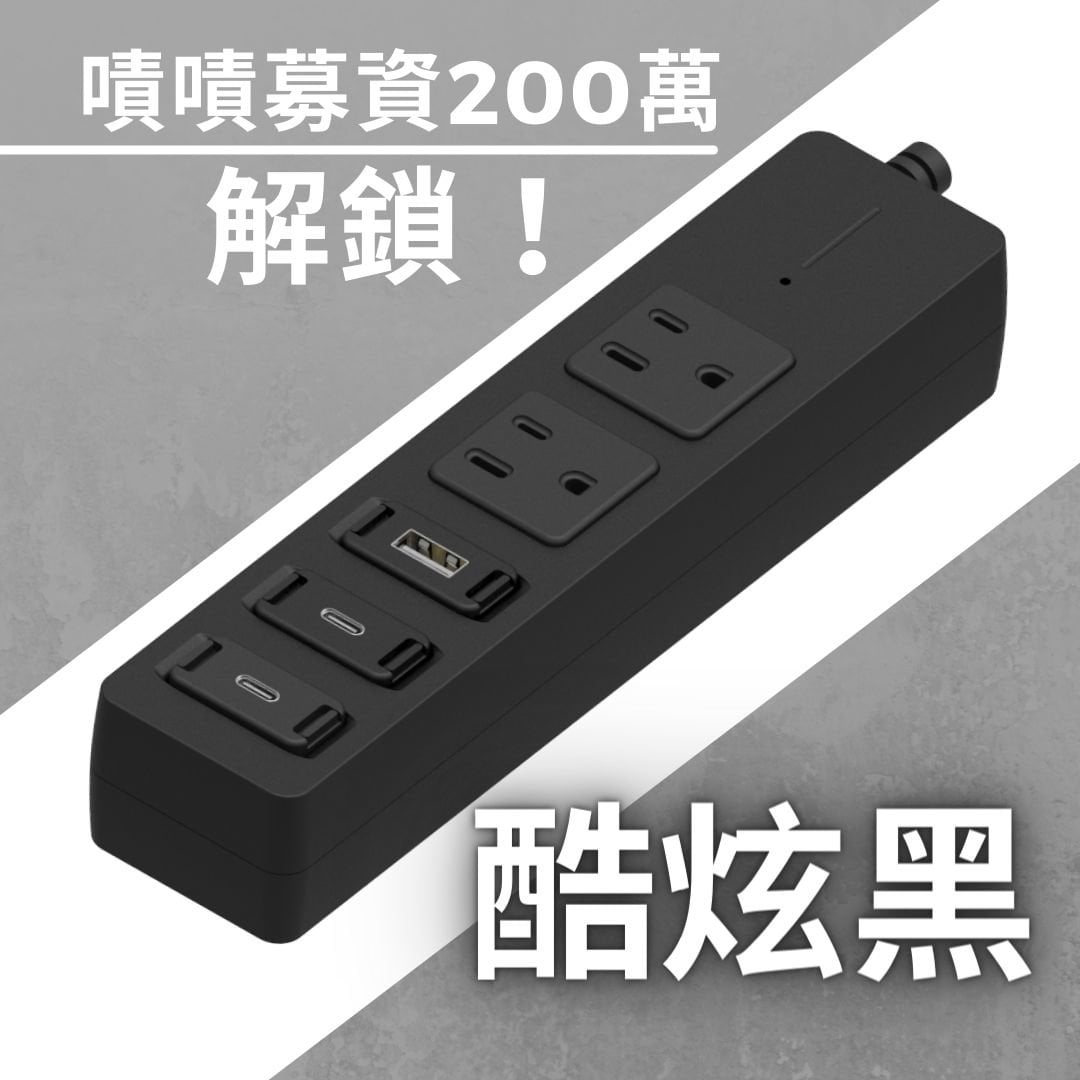socket: (89, 131, 1007, 945)
